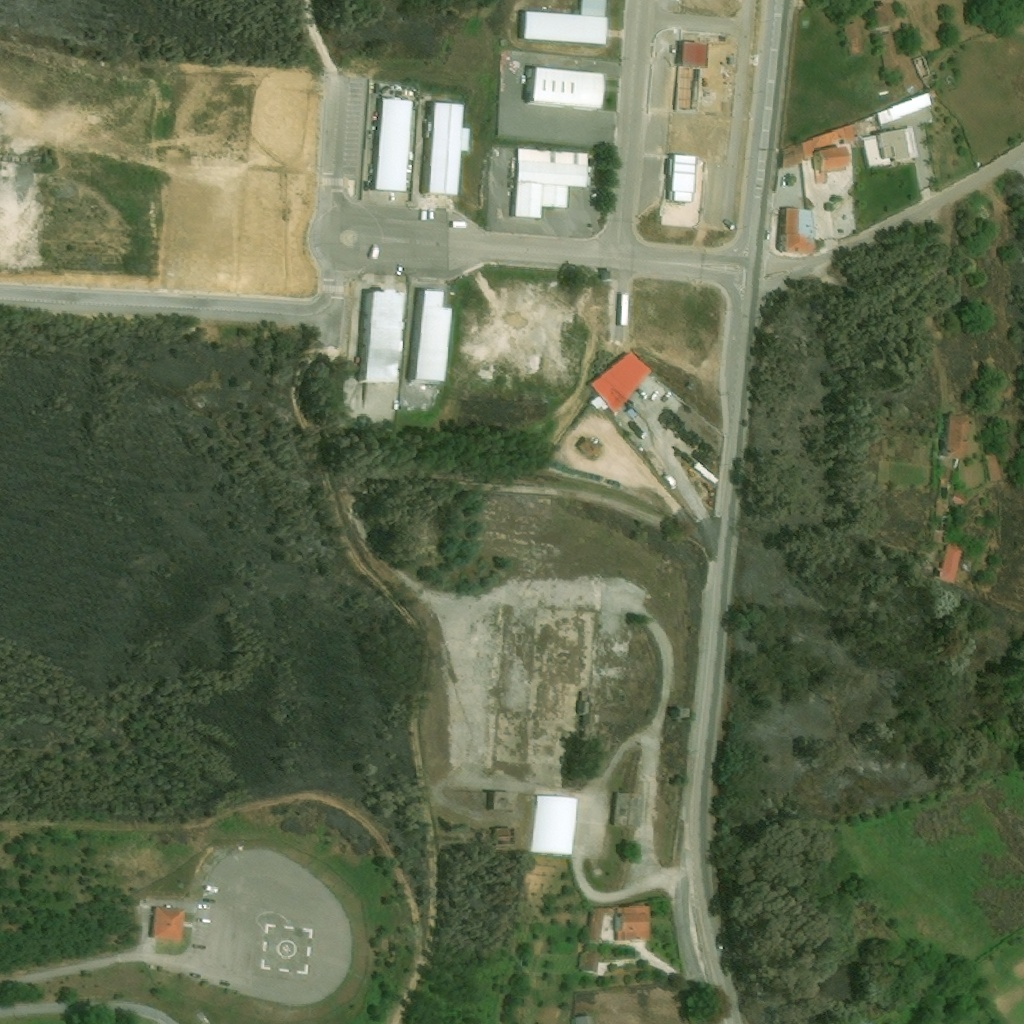0 no-damage: (514, 146, 589, 217), (419, 100, 473, 196), (355, 290, 407, 384), (405, 288, 452, 382), (368, 96, 413, 193), (588, 350, 653, 413), (520, 0, 609, 45), (520, 64, 605, 111), (528, 795, 578, 855), (858, 126, 917, 169), (875, 92, 933, 127), (800, 125, 852, 160), (776, 208, 814, 254), (667, 154, 698, 204), (814, 145, 850, 184), (613, 904, 650, 941), (943, 412, 971, 459), (151, 905, 185, 940), (613, 793, 642, 827), (875, 33, 900, 71), (939, 545, 962, 584), (870, 3, 896, 30), (584, 907, 604, 942), (578, 949, 601, 973), (693, 463, 718, 485), (487, 790, 514, 810), (844, 20, 859, 56), (781, 143, 801, 169), (578, 438, 601, 459), (986, 455, 998, 482), (572, 1016, 586, 1023)
3 destroyed: (910, 55, 931, 83), (491, 826, 508, 845)
